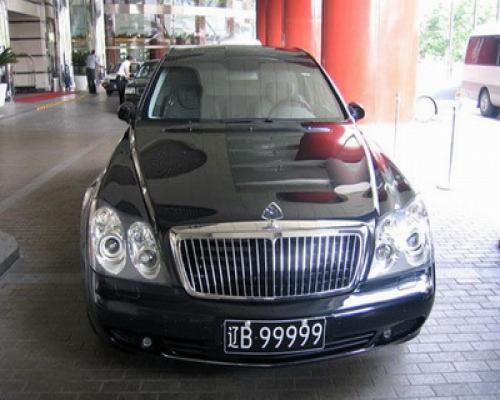Carplate: (220, 312, 329, 364)
